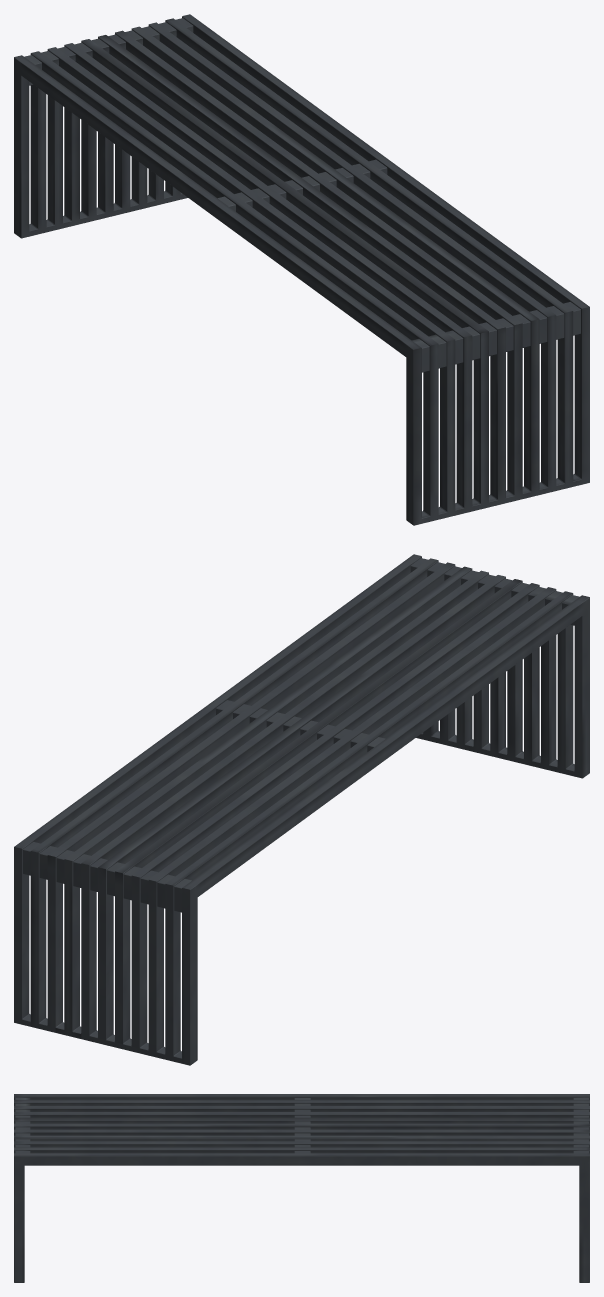
Rendered from metal_bench.glb.
3 renders of one model, top to bottom at view 1: azimuth 30°, elevation 25°; view 2: azimuth 150°, elevation 25°; view 3: azimuth 270°, elevation 25°, orthographic. The views are drawn at different scales.
Visible parts, largest first — view 1: Weldment.001_0; view 2: Weldment.001_0; view 3: Weldment.001_0.
Part boxes in pixels (x1,y1,x2,y2): Weldment.001_0: [14, 14, 589, 525]; Weldment.001_0: [14, 554, 589, 1065]; Weldment.001_0: [14, 1094, 589, 1282].
Bounding box in the file's own units: 1.3 × 1.24 × 5.1.
1 material, 1 textured.
